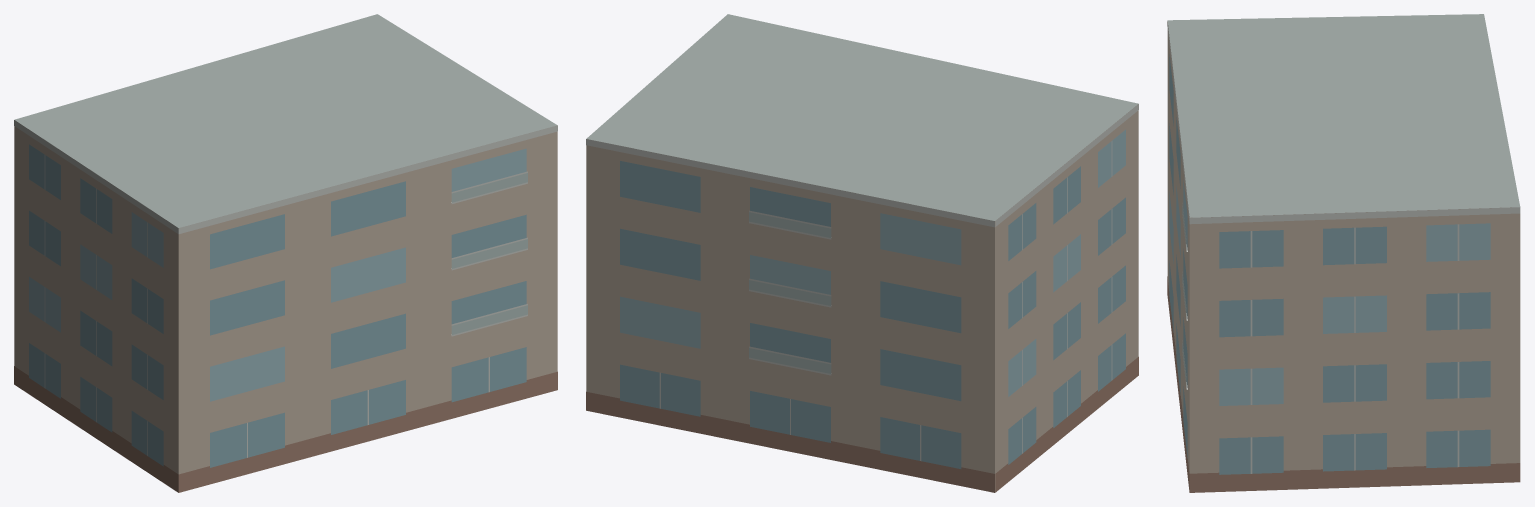
File: survey-upis-32756464.glb
3 views of the same model, side by side, from view 1: azimuth 30°, elevation 25°; view 2: azimuth 150°, elevation 25°; view 3: azimuth 270°, elevation 25° (orthographic). The views are drawn at different scales.
Visible parts, largest first — view 1: survey-upis-32756464.tmp; view 2: survey-upis-32756464.tmp; view 3: survey-upis-32756464.tmp.
Part boxes in pixels (x1,y1,x2,y2): survey-upis-32756464.tmp: [14, 14, 557, 492]; survey-upis-32756464.tmp: [586, 14, 1138, 492]; survey-upis-32756464.tmp: [1167, 14, 1520, 492].
Size of the model in its own units: 16.69 by 10.5 by 12.21.
